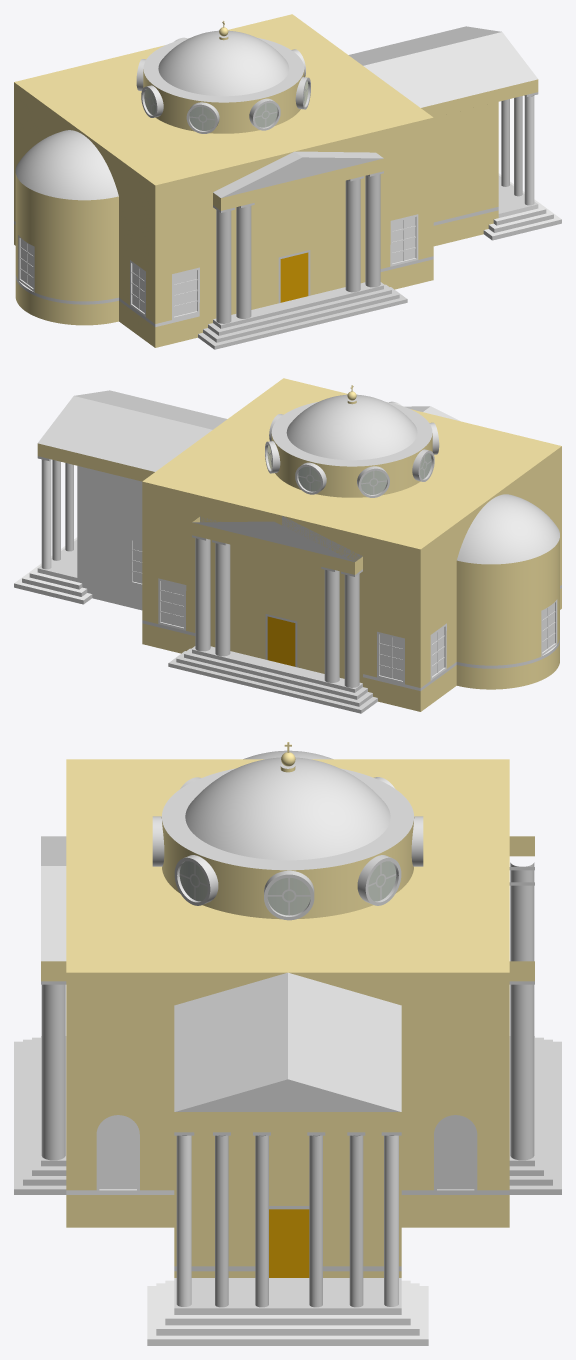
Rendered from sobor-iosifa.glb.
3 renders of one model, top to bottom at view 1: azimuth 30°, elevation 25°; view 2: azimuth 150°, elevation 25°; view 3: azimuth 270°, elevation 25°, orthographic. The views are drawn at different scales.
Visible parts, largest first — view 1: Geom3D (×5); view 2: Geom3D (×5); view 3: Geom3D (×5).
Boxes of the visible parts, left/top/right/bottom form: Geom3D (×5): left=14, top=14, right=561, bottom=349; Geom3D (×5): left=14, top=378, right=561, bottom=713; Geom3D (×5): left=14, top=742, right=561, bottom=1345.
Bounding box in the file's own units: 24.75 × 11.6 × 15.2.
